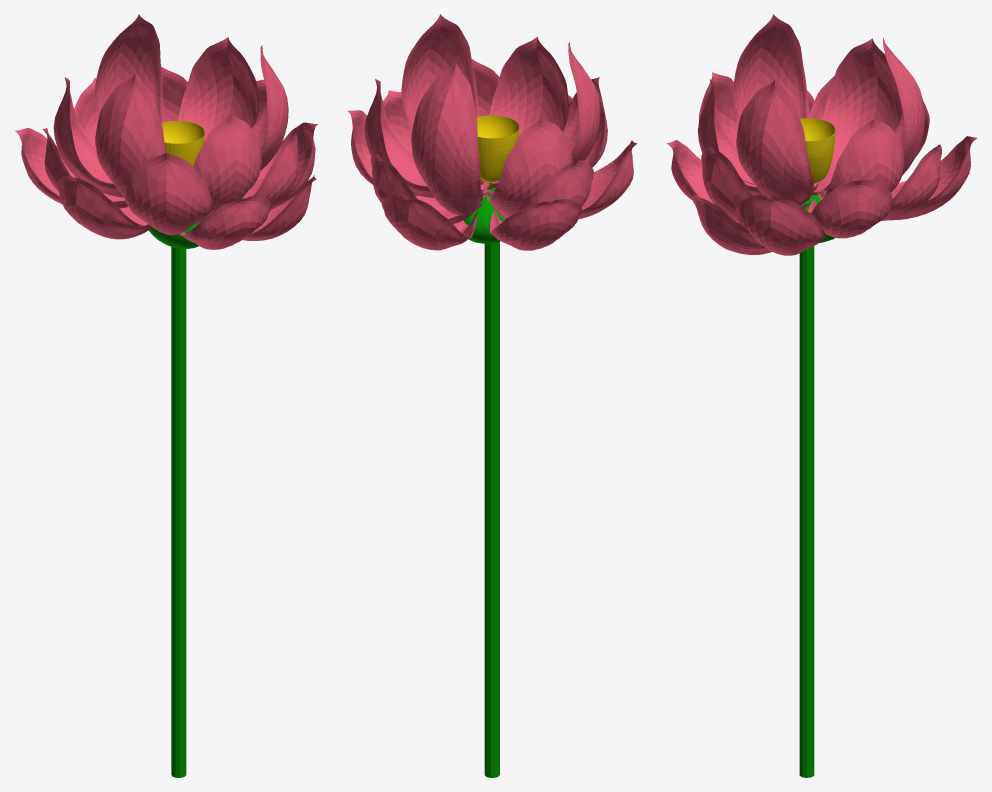
The model's file is Lotus060.fbx.
3 views of the same model, side by side, from view 1: azimuth 30°, elevation 25°; view 2: azimuth 150°, elevation 25°; view 3: azimuth 270°, elevation 25° (orthographic).
Visible parts, largest first — view 1: pCylinder1, nurbsToPoly21, nurbsToPoly19, nurbsToPoly16, nurbsToPoly18, nurbsToPoly23, nurbsToPoly11, nurbsToPoly20, nurbsToPoly8, nurbsToPoly22, nurbsToPoly13, nurbsToPoly24 (+7 smaller); view 2: pCylinder1, nurbsToPoly23, nurbsToPoly18, nurbsToPoly20, nurbsToPoly22, nurbsToPoly10, nurbsToPoly12, nurbsToPoly19, nurbsToPoly21, pSphere3, nurbsToPoly11, nurbsToPoly14 (+6 smaller); view 3: pCylinder1, nurbsToPoly22, nurbsToPoly20, nurbsToPoly21, nurbsToPoly9, nurbsToPoly19, nurbsToPoly15, nurbsToPoly23, nurbsToPoly13, nurbsToPoly17, nurbsToPoly24, nurbsToPoly10 (+4 smaller).
Part boxes in pixels (x1,y1,x2,y2): pCylinder1: (171,247,186,777); nurbsToPoly21: (95,73,165,197); nurbsToPoly19: (178,37,258,141); nurbsToPoly16: (125,153,212,235); nurbsToPoly18: (193,115,261,215); nurbsToPoly23: (94,14,163,122); nurbsToPoly11: (57,175,152,239); nurbsToPoly20: (53,77,124,197); nurbsToPoly8: (180,195,271,249); nurbsToPoly22: (251,45,288,170); nurbsToPoly13: (242,133,298,208); nurbsToPoly24: (242,175,316,240); pCylinder1: (484,241,499,777); nurbsToPoly23: (411,63,484,215); nurbsToPoly18: (480,37,568,192); nurbsToPoly20: (483,118,572,217); nurbsToPoly22: (401,14,483,184); nurbsToPoly10: (381,193,478,250); nurbsToPoly12: (489,199,581,250); nurbsToPoly19: (364,79,491,197); nurbsToPoly21: (489,42,600,186); pSphere3: (477,115,519,182); nurbsToPoly11: (578,140,637,219); nurbsToPoly14: (486,160,593,218); pCylinder1: (799,246,814,777); nurbsToPoly22: (736,80,819,205); nurbsToPoly20: (814,38,902,191); nurbsToPoly21: (733,14,809,120); nurbsToPoly9: (735,195,826,255); nurbsToPoly19: (816,119,904,200); nurbsToPoly15: (808,180,892,238); nurbsToPoly23: (827,37,924,188); nurbsToPoly13: (701,147,811,221); nurbsToPoly17: (881,144,941,220); nurbsToPoly24: (692,194,771,254); nurbsToPoly10: (889,136,976,220).
Bounding box in the file's own units: 18.65 × 53.09 × 20.34.
